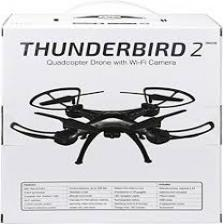drone: (7, 79, 219, 168)
